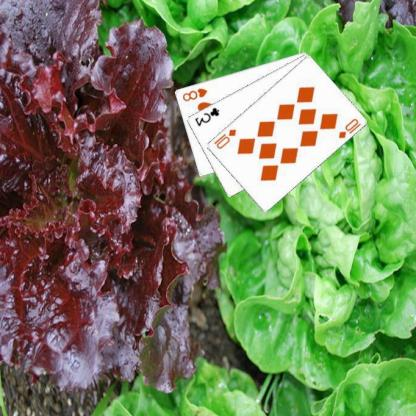10D: (337, 116, 364, 140), (213, 126, 239, 150)
3C: (193, 104, 222, 128)
8H: (181, 86, 211, 102)
